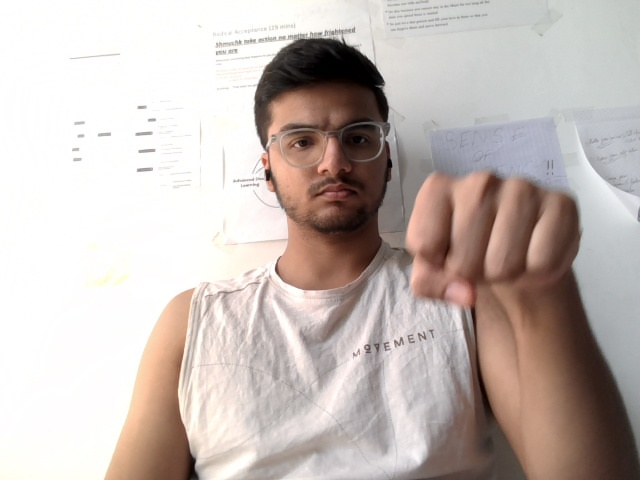yes: (400, 143, 596, 326)
